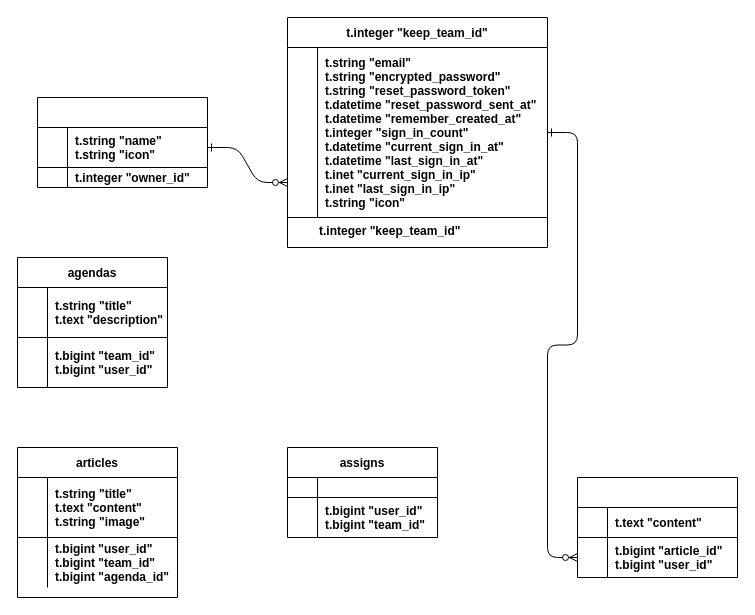
Some shapes in this 755 by 615 pixel diagram are drawn without their labels. Each missing label, with the box of its shape:
comments: (576, 476, 738, 578)
teams: (36, 96, 208, 188)
